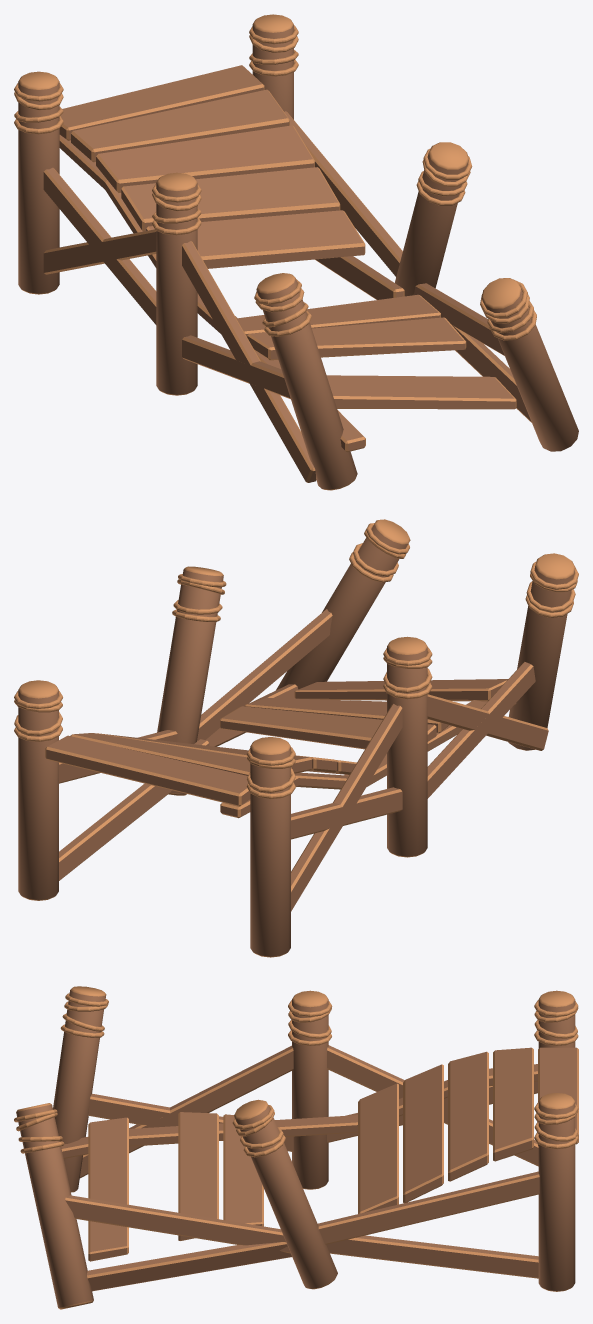
The model's file is Dock_broken.fbx.
The picture shows the model from 3 angles, top to bottom: view 1: azimuth 30°, elevation 25°; view 2: azimuth 150°, elevation 25°; view 3: azimuth 270°, elevation 25°; orthographic projection. The views are drawn at different scales.
Visible parts, largest first — view 1: Dock Broken; view 2: Dock Broken; view 3: Dock Broken.
Part boxes in pixels (x1,y1,x2,y2): Dock Broken: [14, 14, 578, 490]; Dock Broken: [14, 519, 578, 957]; Dock Broken: [14, 986, 578, 1309].
Size of the model in its own units: 314 by 222 by 553.
